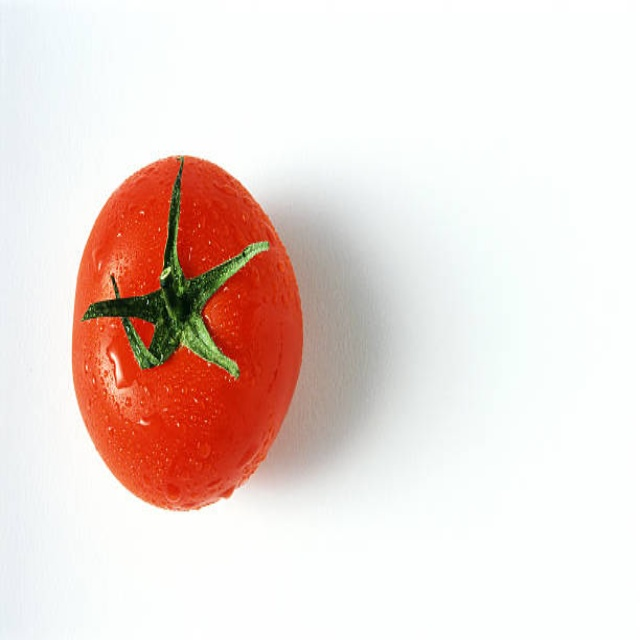tomato: (64, 157, 299, 512)
